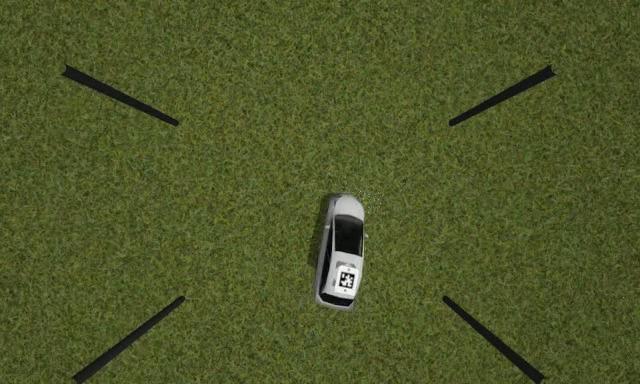Car: (317, 194, 365, 315)
Landing Pad: (334, 264, 359, 298)
